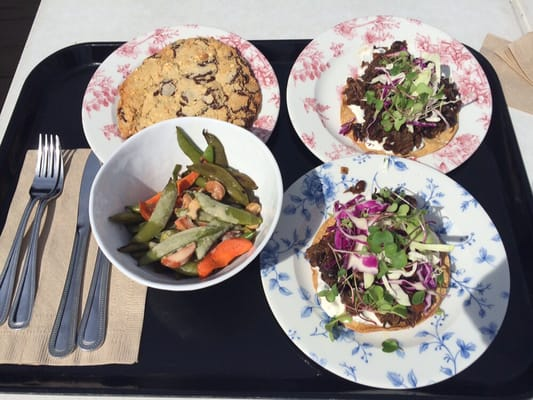sushi: (87, 118, 284, 290), (287, 15, 493, 173), (82, 25, 281, 161)
